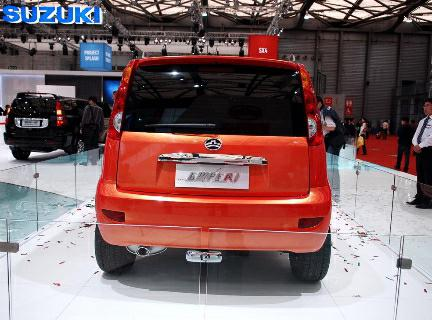长城-精灵: (93, 50, 338, 287)
